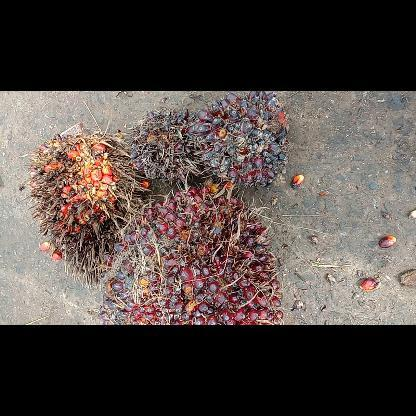TBS abnormal: (186, 92, 291, 190), (127, 107, 202, 187)
TBS masak: (100, 190, 286, 324)
Terlalu masak: (20, 121, 150, 290)
